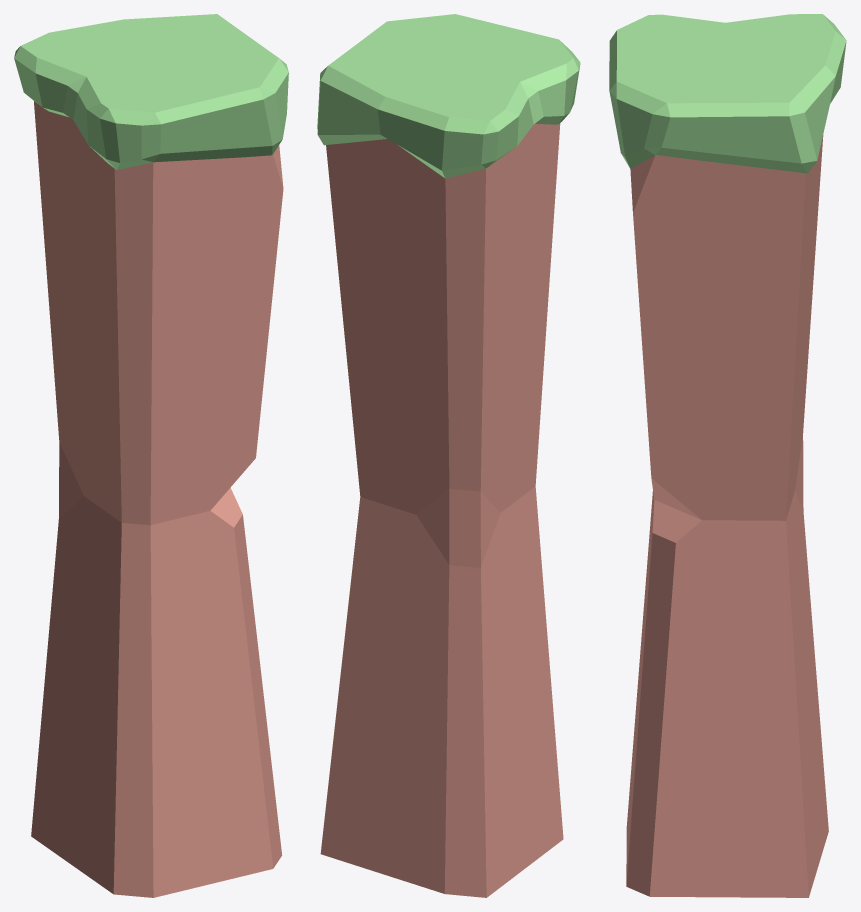
The model's file is Plane_005_Vlad.fbx.
3 views of the same model, side by side, from view 1: azimuth 30°, elevation 25°; view 2: azimuth 150°, elevation 25°; view 3: azimuth 270°, elevation 25° (orthographic).
Parts seen in each view (by area): view 1: Plane.005; view 2: Plane.005; view 3: Plane.005.
Part boxes in pixels (x1,y1,x2,y2): Plane.005: (14, 14, 288, 897); Plane.005: (317, 14, 580, 897); Plane.005: (609, 14, 846, 897).
Size of the model in its own units: 108 by 412 by 111.
